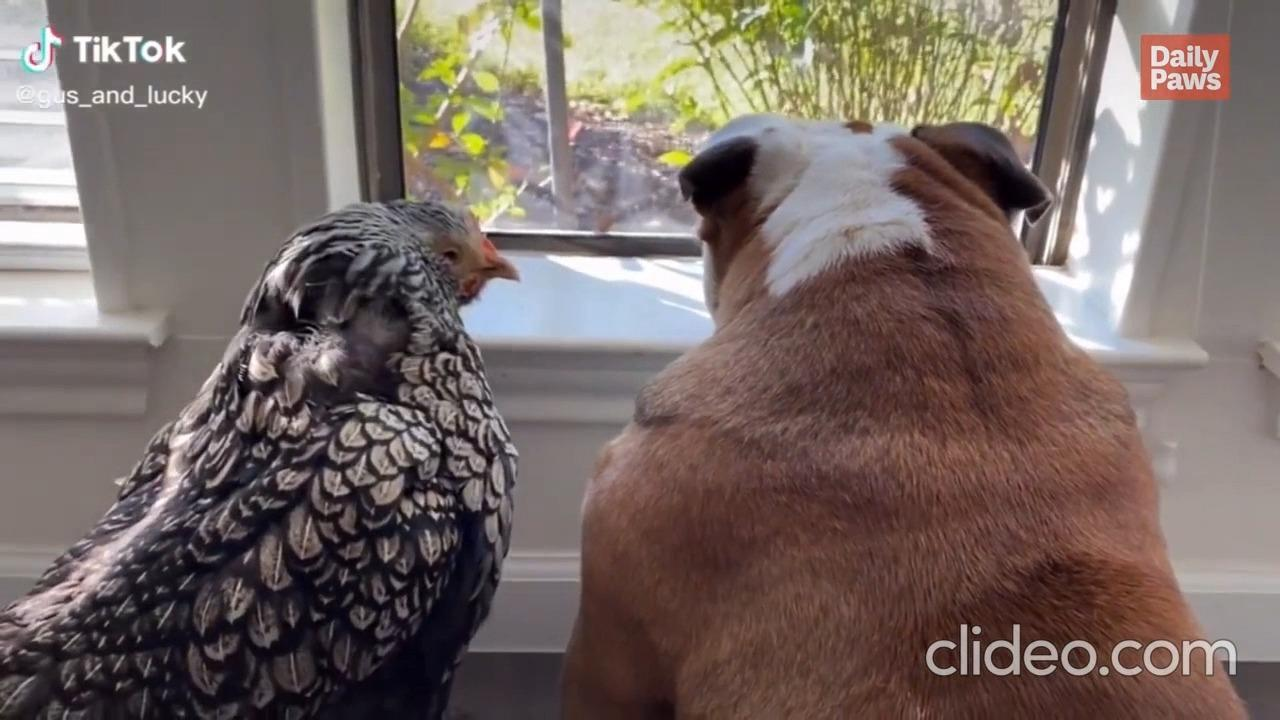Normal: (159, 199, 521, 693)
